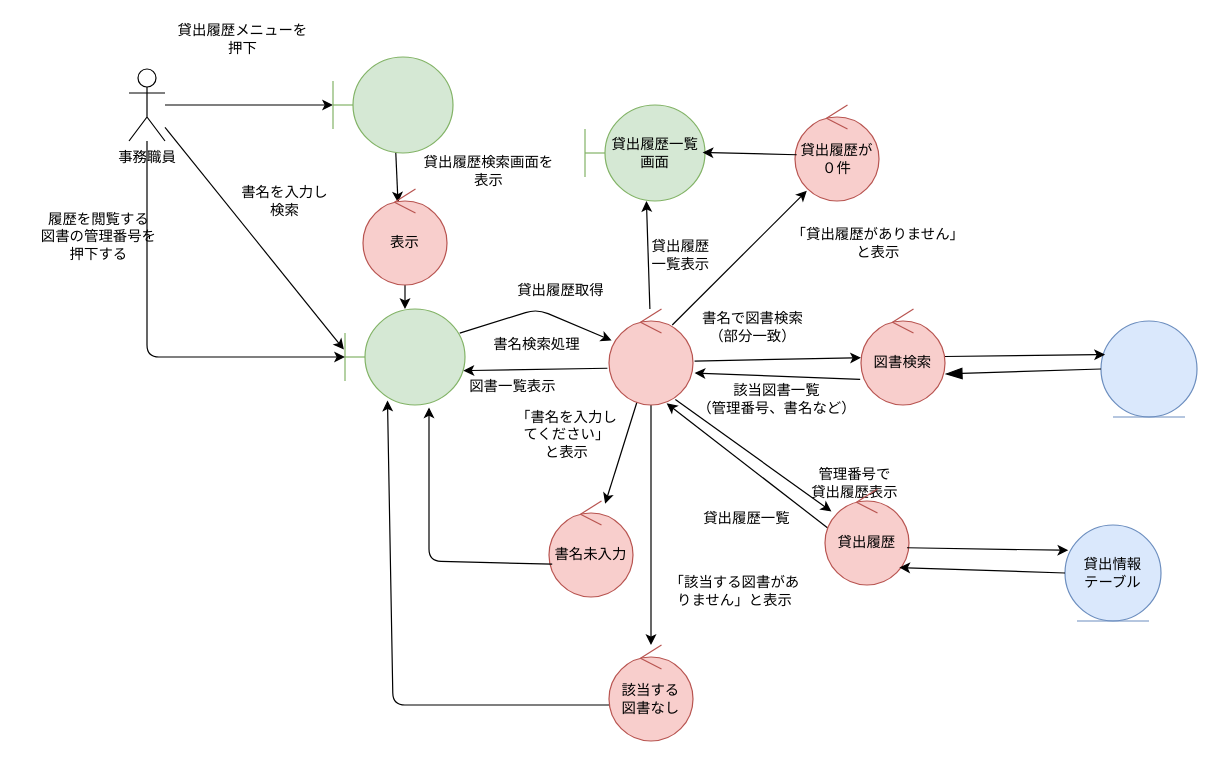
The diagram is 1218 pixels wide and 762 high, and some of its shapes have lost their labels. The centre of each missing label's shape, as x and y in pixels:
メニュー画面: (x=392, y=104)
図書情報 テーブル: (x=1148, y=368)
履歴閲覧処理: (x=650, y=356)
貸出履歴検索画面: (x=404, y=356)
